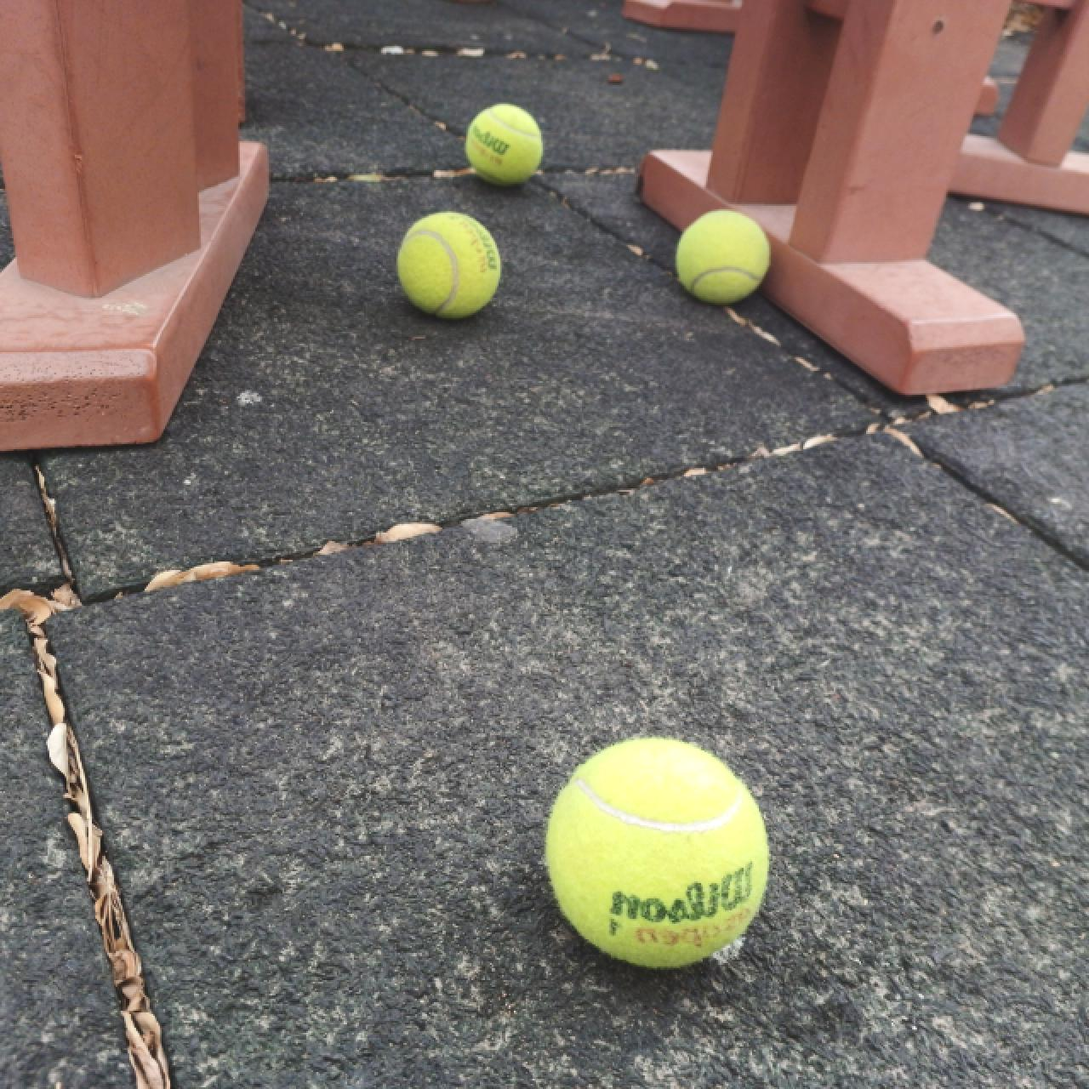tennis-ball: (544, 736, 770, 971), (398, 207, 504, 317), (674, 209, 772, 300), (462, 102, 547, 184)
